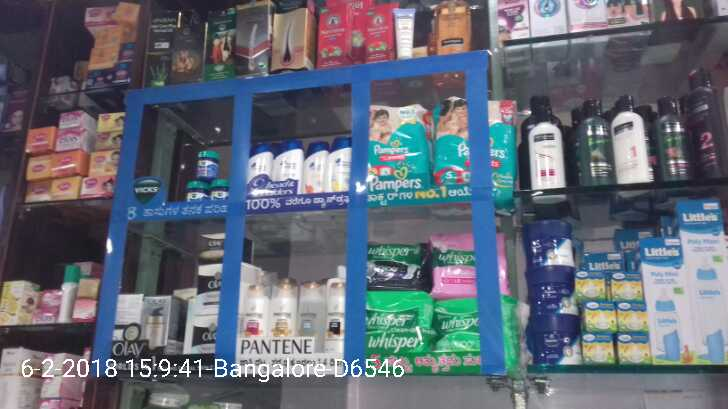vicks: (184, 147, 231, 205)
